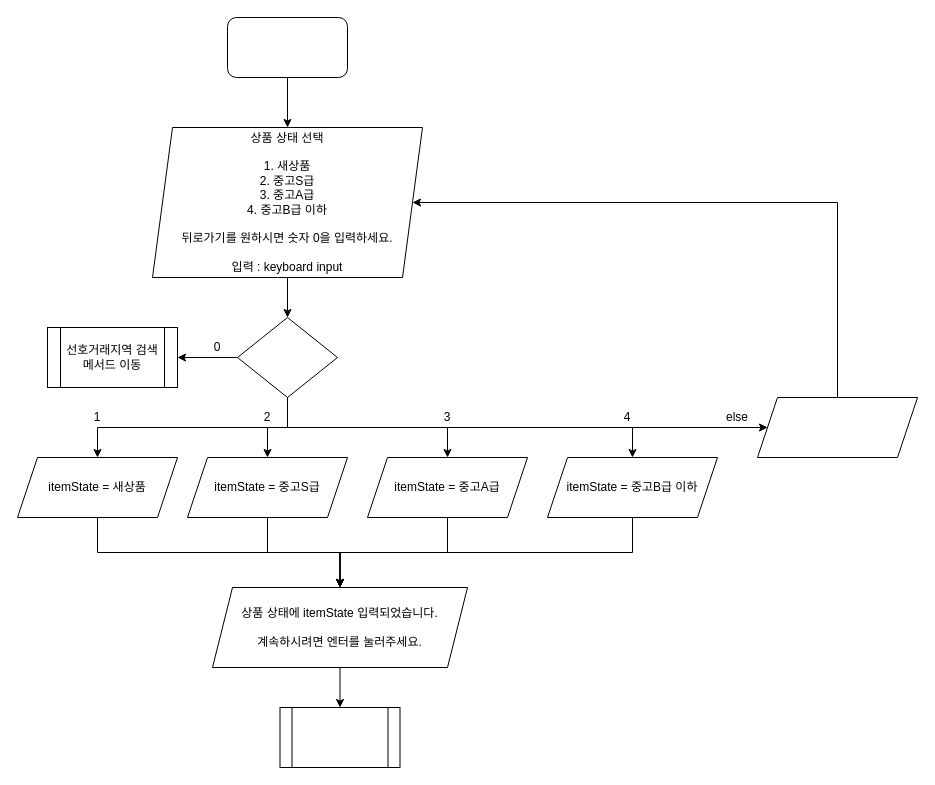
The diagram is 935 pixels wide and 785 high, and some of its shapes have lost their labels. The shapes that lost their labels are listed below. From the top down, each one's centre as x and y in pixels, then its label:
At point 287,47: "상품 상태 선택 메서드 진입".
At point 287,357: "input".
At point 837,427: "잘못 입력하셨습니다. 다시 입력해주세요.".
At point 339,737: "거래 방식 선택 메서드 이동".
